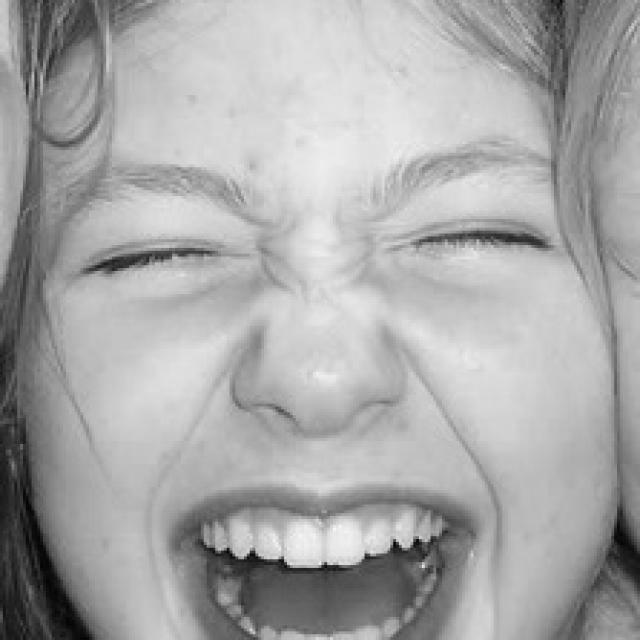real: (49, 10, 575, 573), (74, 188, 564, 301)
